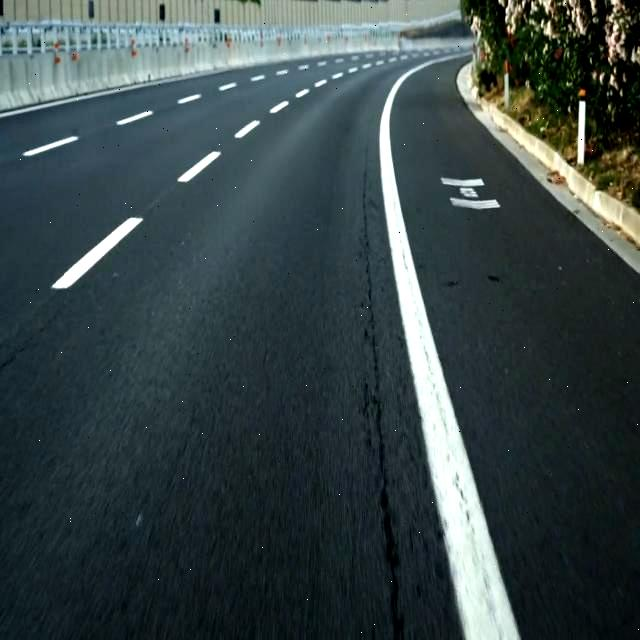lane: (379, 55, 520, 640), (51, 218, 142, 288), (178, 151, 221, 182), (22, 138, 79, 156)
road: (0, 58, 462, 639), (391, 58, 639, 639)
